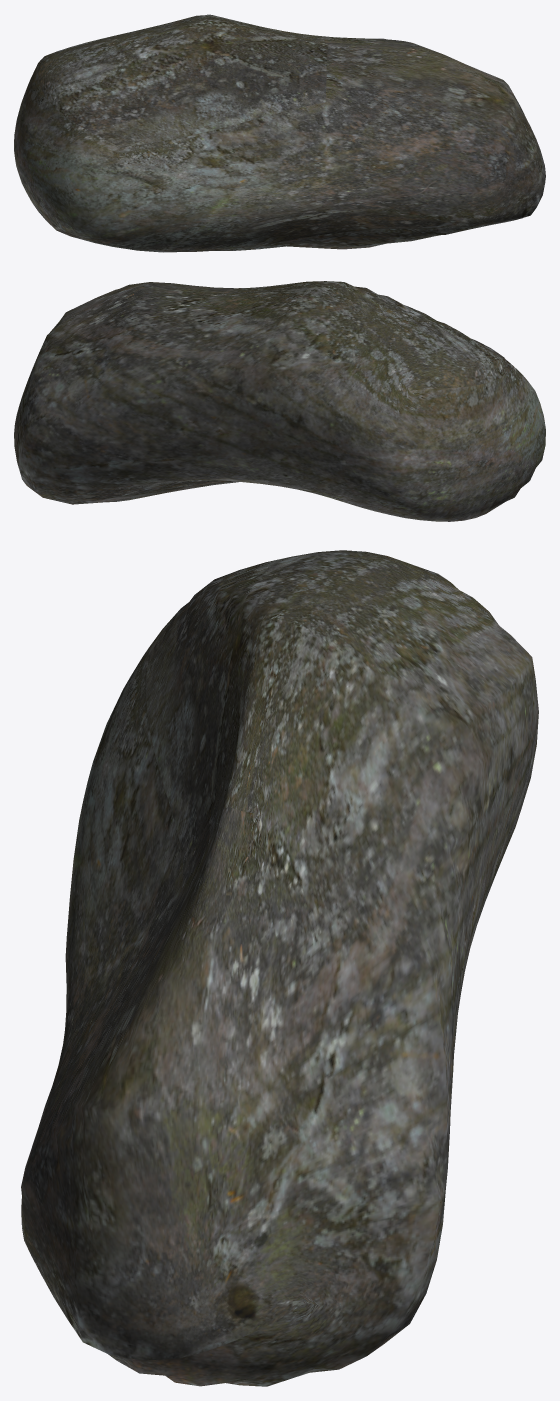
File: M_Rock_3.fbx
3 renders of one model, top to bottom at view 1: azimuth 30°, elevation 25°; view 2: azimuth 150°, elevation 25°; view 3: azimuth 270°, elevation 25°, orthographic. The views are drawn at different scales.
Visible parts, largest first — view 1: Cube; view 2: Cube; view 3: Cube.
Boxes of the visible parts, x1,y1,x2,y2 form: Cube: (14, 14, 545, 252); Cube: (14, 281, 545, 521); Cube: (21, 550, 538, 1386).
Size of the model in its own units: 192 by 94.2 by 89.18.
1 material, 1 textured.
